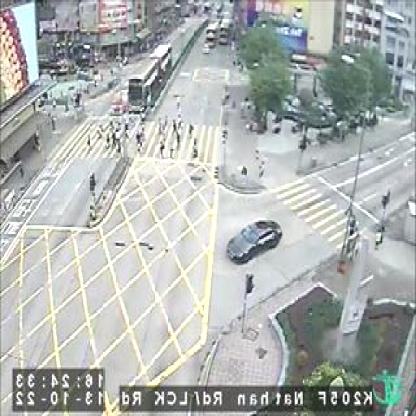Bus: (124, 57, 159, 114), (148, 44, 172, 80), (218, 21, 229, 46), (204, 26, 216, 48)
Car: (226, 216, 282, 264)
